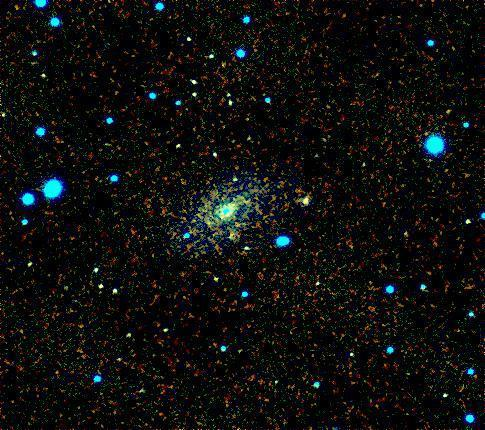star: (196, 209, 226, 239)
